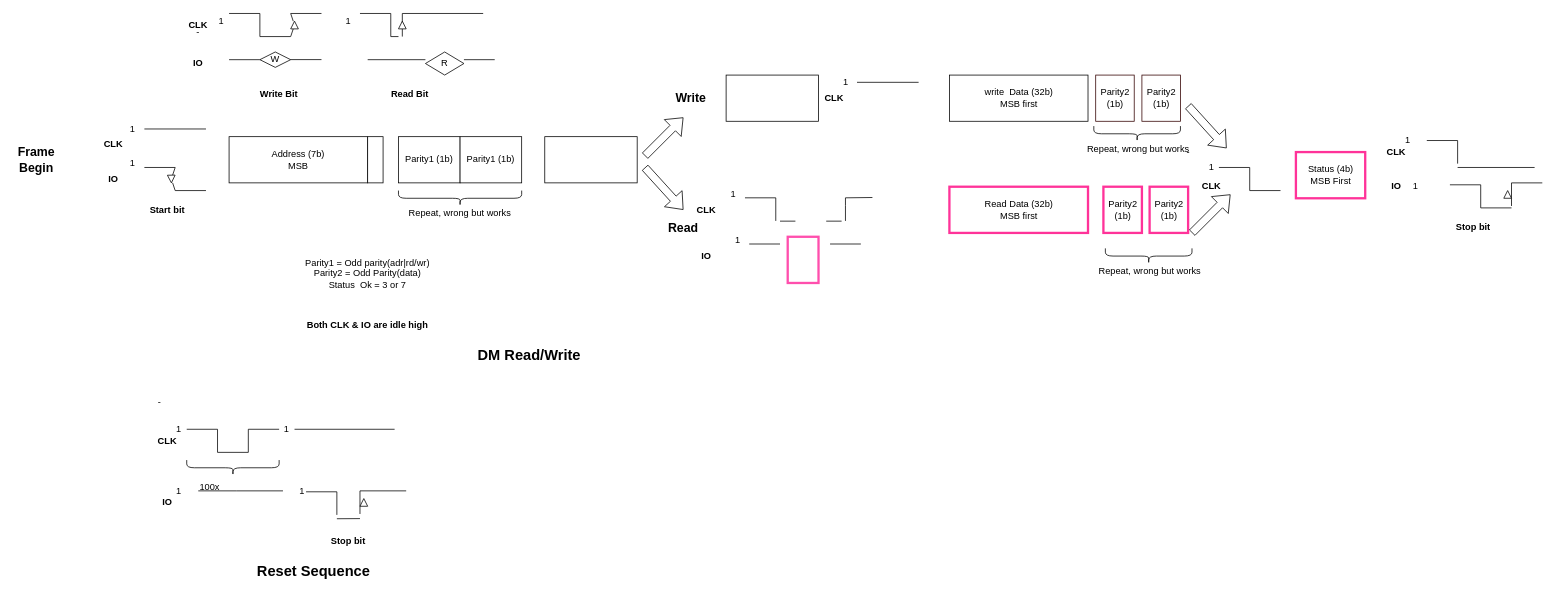
Some shapes in this 1556 by 597 pixel diagram are drawn without their labels. Each missing label, with the centre of its shape:
"0 (1b)" belongs at pixel 772 97.
"000 (3b)" belongs at pixel 590 159.
"Input Pullup" belongs at pixel 802 259.
"R=0 W=1 1b" belongs at pixel 375 159.
